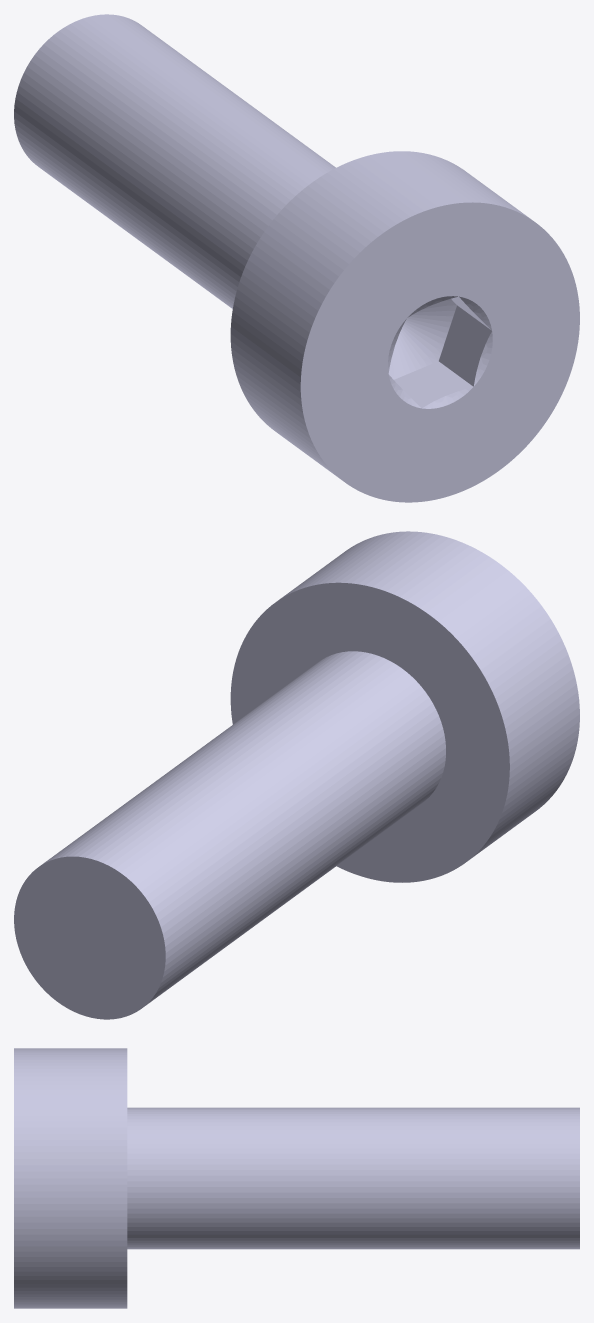
The model's file is ugv_ddsm_m2_5018_jj1l2t.dae.
The picture shows the model from 3 angles, top to bottom: view 1: azimuth 30°, elevation 25°; view 2: azimuth 150°, elevation 25°; view 3: azimuth 270°, elevation 25°; orthographic projection. The views are drawn at different scales.
Visible parts, largest first — view 1: node0; view 2: node0; view 3: node0.
Part boxes in pixels (bbox=[...]): node0: bbox=[14, 14, 579, 502]; node0: bbox=[14, 531, 579, 1019]; node0: bbox=[14, 1048, 579, 1308].
Bounding box in the file's own units: 0.0046 × 0.01 × 0.0046.
